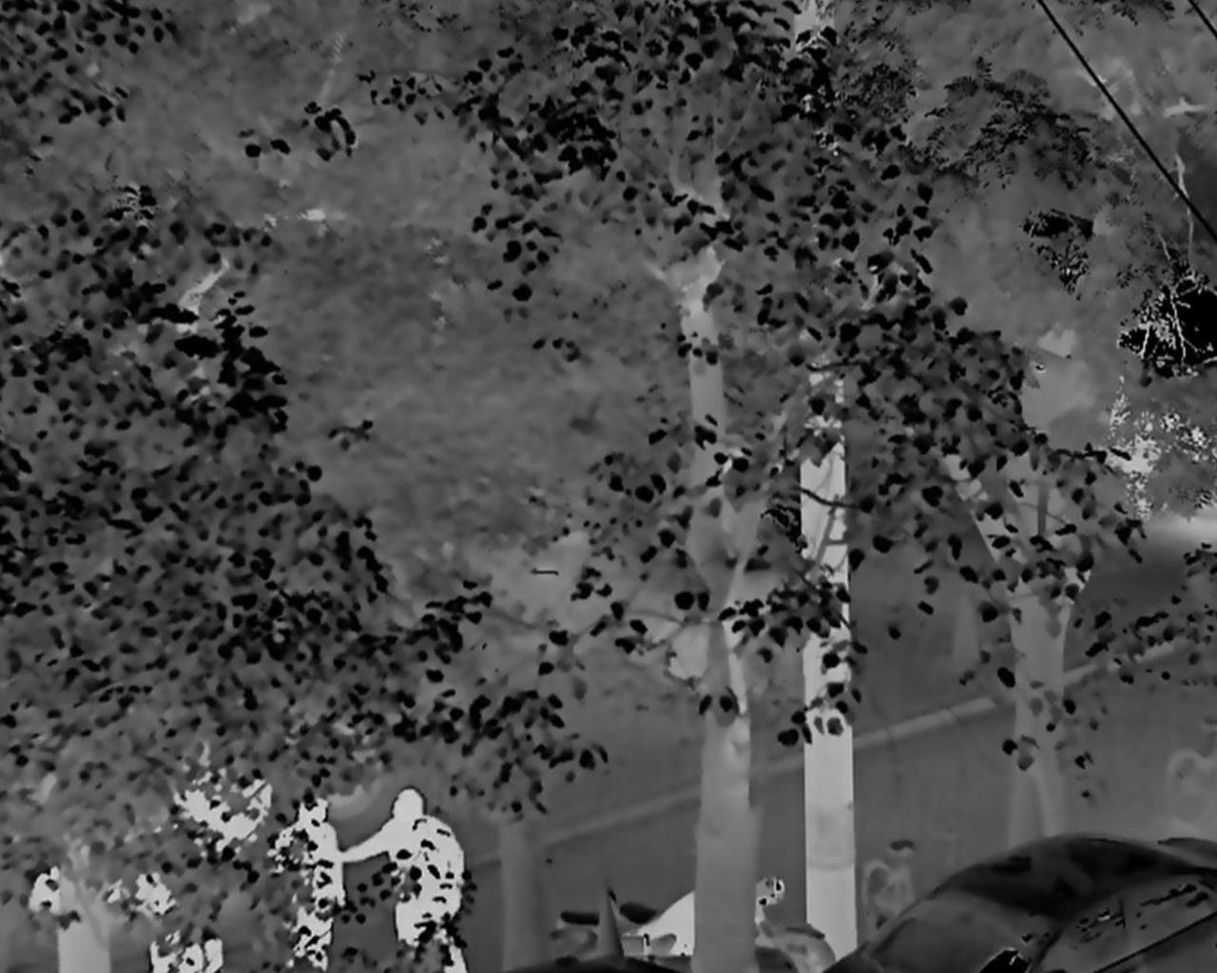person: (336, 788, 469, 973), (271, 796, 343, 973)
